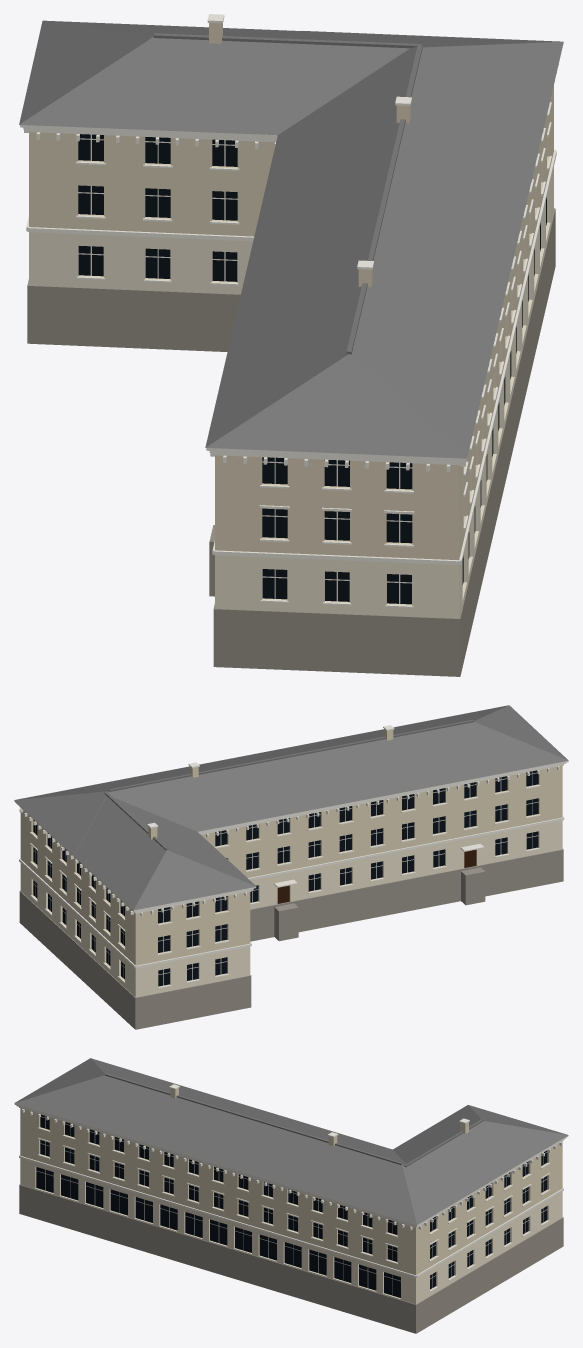
File: nahimova10.glb
The picture shows the model from 3 angles, top to bottom: view 1: azimuth 30°, elevation 25°; view 2: azimuth 150°, elevation 25°; view 3: azimuth 270°, elevation 25°; orthographic projection. The views are drawn at different scales.
Parts seen in each view (by area): view 1: nahimova10_roof, nahimova10_wall, nahimova10_stone, nahimova10_wall2, nahimova10_trim, nahimova10_glass; view 2: nahimova10_roof, nahimova10_wall, nahimova10_stone, nahimova10_wall2, nahimova10_trim, nahimova10_glass, nahimova10_wood; view 3: nahimova10_roof, nahimova10_wall, nahimova10_stone, nahimova10_glass, nahimova10_wall2, nahimova10_trim.
Part boxes in pixels (x1,y1,x2,y2): nahimova10_roof: (19,20,563,458); nahimova10_wall: (29,23,553,560); nahimova10_stone: (27,208,555,676); nahimova10_wall2: (29,167,553,618); nahimova10_trim: (20,14,558,607); nahimova10_glass: (78,134,546,604); nahimova10_roof: (14,705,568,910); nahimova10_wall: (20,729,562,965); nahimova10_stone: (19,849,563,1029); nahimova10_wall2: (20,820,562,997); nahimova10_trim: (14,725,568,988); nahimova10_glass: (33,770,538,986); nahimova10_wood: (277,850,476,903); nahimova10_roof: (14,1058,568,1224); nahimova10_wall: (20,1088,562,1275); nahimova10_stone: (19,1184,563,1333); nahimova10_glass: (36,1114,547,1297); nahimova10_wall2: (20,1158,562,1304); nahimova10_trim: (14,1084,568,1295).
Size of the model in its own units: 43.97 by 17.44 by 61.69.
